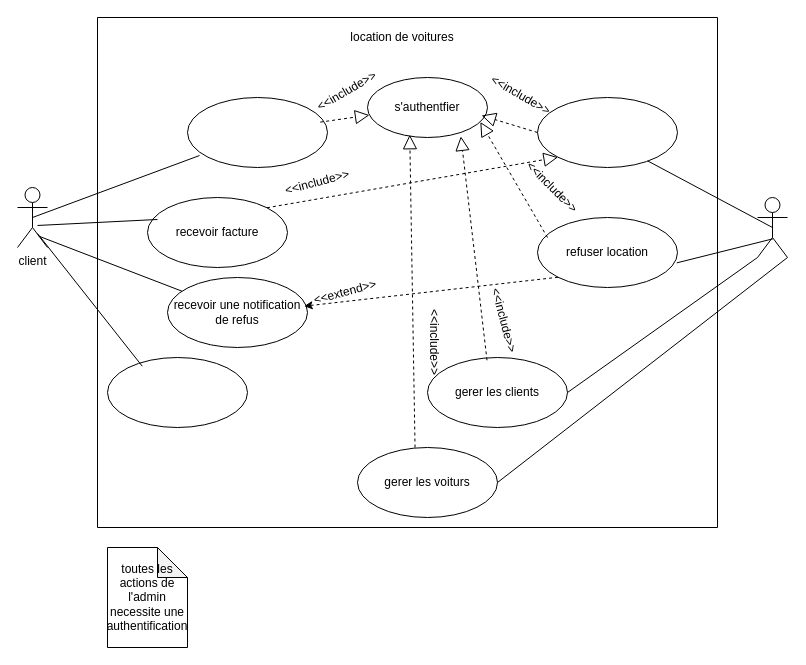
The diagram is 806 pixels wide and 665 high, and some of its shapes have lost their labels. The shapes that lost their labels are listed below. From the top down, each one's centre as x and y in pixels, then its label:
At (257,132): "demander location".
At (607,132): "accepter location".
At (772,227): "admin".
At (177,392): "consulter les voitures disponibles".
